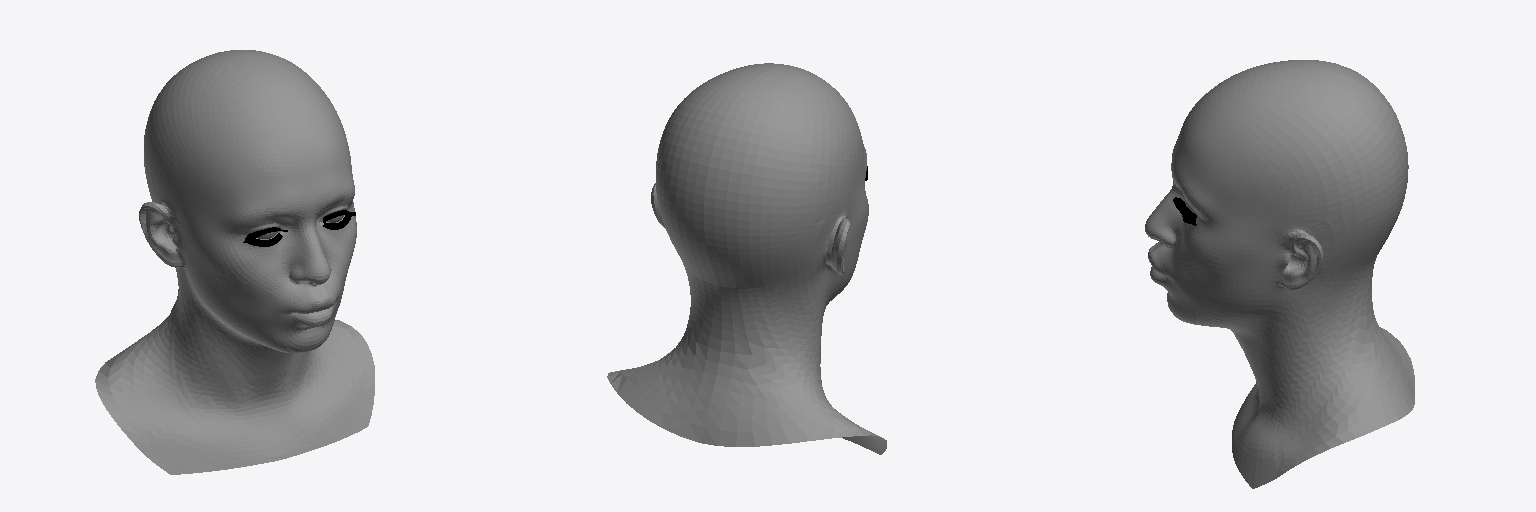
File: mouthPucker.obj
The picture shows the model from 3 angles: view 1: azimuth 30°, elevation 25°; view 2: azimuth 150°, elevation 25°; view 3: azimuth 270°, elevation 25°; orthographic projection.
Size of the model in its own units: 24.83 by 33.81 by 22.18.